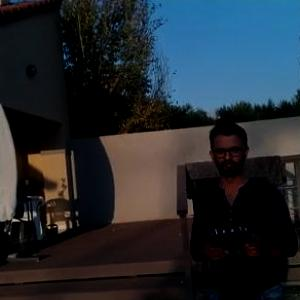follow: (185, 115, 300, 299)
